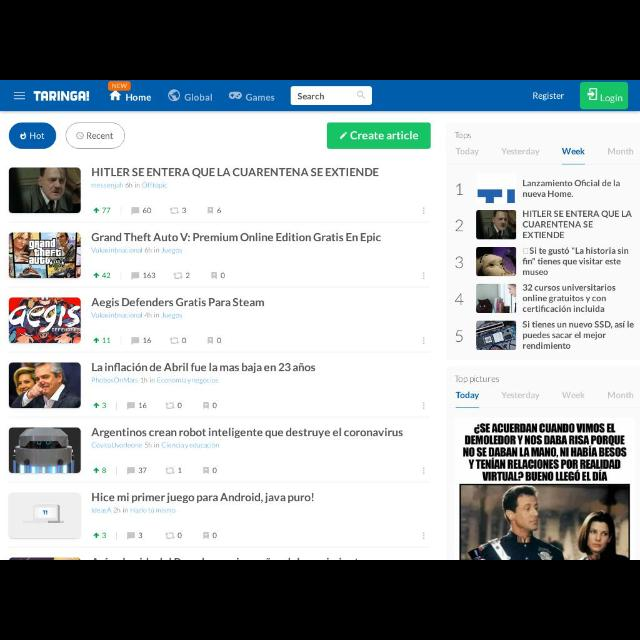icon: (168, 89, 180, 101), (586, 88, 598, 100), (110, 91, 122, 101), (228, 91, 242, 99), (357, 90, 367, 100), (14, 92, 26, 100), (130, 271, 140, 279), (126, 402, 136, 410), (126, 467, 136, 475), (126, 532, 136, 540), (169, 207, 179, 215), (173, 271, 183, 279), (165, 532, 175, 540), (165, 467, 175, 475), (165, 402, 175, 410), (169, 337, 179, 345), (339, 132, 347, 140), (19, 132, 27, 140), (76, 132, 84, 140), (132, 207, 140, 215), (132, 337, 140, 345), (202, 531, 210, 539), (202, 465, 210, 473), (202, 402, 210, 410), (206, 337, 214, 345), (210, 271, 218, 279), (92, 402, 100, 410), (92, 336, 100, 344), (92, 272, 100, 280), (208, 206, 215, 214), (92, 208, 100, 215), (92, 532, 100, 538), (94, 466, 100, 474)
image: (461, 484, 629, 560), (8, 232, 82, 278), (9, 298, 81, 344), (9, 428, 81, 474), (10, 363, 80, 409), (9, 169, 81, 213), (10, 494, 81, 538), (477, 210, 517, 240), (477, 322, 517, 351), (477, 248, 518, 276), (477, 284, 518, 312), (477, 189, 517, 205)
input: (292, 87, 372, 105)
multitab: (455, 147, 635, 157), (455, 391, 635, 401)
text: (463, 423, 627, 482), (90, 427, 404, 439), (91, 232, 382, 244), (522, 320, 634, 350), (522, 210, 632, 240), (522, 247, 628, 277), (92, 168, 380, 178), (522, 283, 616, 313), (92, 362, 316, 374), (92, 492, 314, 504), (522, 180, 620, 198), (91, 299, 265, 309), (91, 442, 220, 450), (91, 377, 219, 385), (91, 247, 183, 255), (91, 312, 183, 320), (349, 131, 418, 141), (91, 506, 177, 514), (34, 90, 90, 102), (92, 181, 168, 189), (501, 391, 541, 401), (455, 376, 499, 384), (532, 92, 564, 102), (501, 148, 541, 156), (607, 390, 635, 400), (454, 147, 480, 157), (184, 94, 214, 102), (245, 94, 275, 102), (455, 391, 479, 401), (562, 390, 586, 400), (298, 92, 324, 101), (86, 132, 114, 140), (607, 148, 635, 156), (600, 95, 624, 104), (126, 93, 152, 101), (562, 148, 586, 156), (454, 132, 472, 140), (454, 219, 464, 233), (454, 255, 464, 269), (454, 329, 464, 343), (112, 82, 128, 90), (29, 132, 45, 140), (454, 184, 464, 196), (142, 272, 156, 280), (456, 294, 464, 306), (142, 337, 152, 345), (138, 402, 148, 410), (138, 466, 148, 474), (142, 208, 152, 215), (102, 206, 110, 214), (102, 272, 110, 280), (185, 272, 191, 280), (102, 338, 110, 344), (177, 402, 183, 410), (212, 402, 218, 410), (177, 467, 183, 475), (212, 532, 218, 540), (216, 208, 222, 215), (220, 272, 226, 278), (181, 338, 187, 344), (212, 468, 218, 474), (138, 532, 144, 538), (217, 337, 221, 345), (102, 402, 106, 410), (102, 466, 106, 474), (102, 532, 106, 540), (178, 532, 182, 540), (182, 208, 186, 215)
textbutton: (327, 122, 431, 150), (66, 122, 126, 150), (580, 82, 628, 110), (9, 123, 56, 149)
toolbar: (1, 80, 640, 112)
